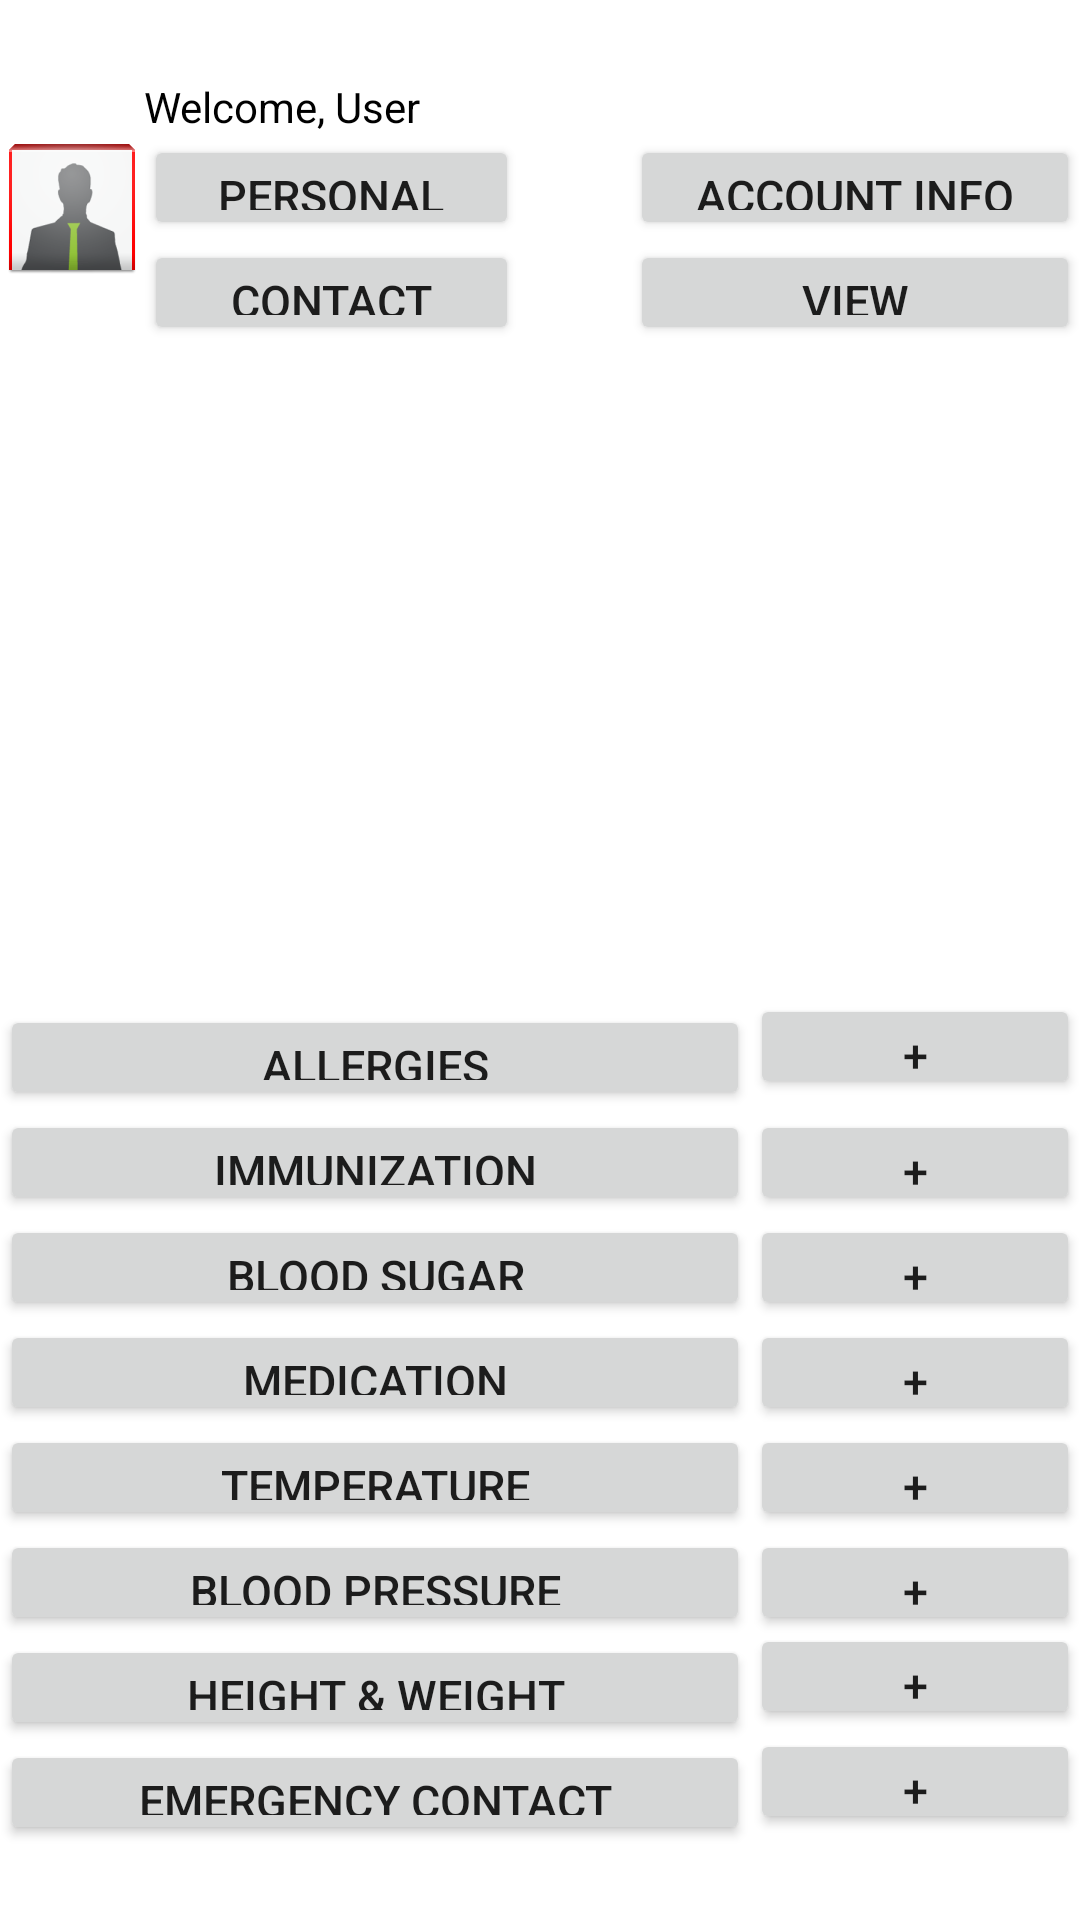

Icons on this 1080px x 1920px Android screen, each with its box as (x1, y1, x2, y2):
profile: (9, 144, 135, 273)
